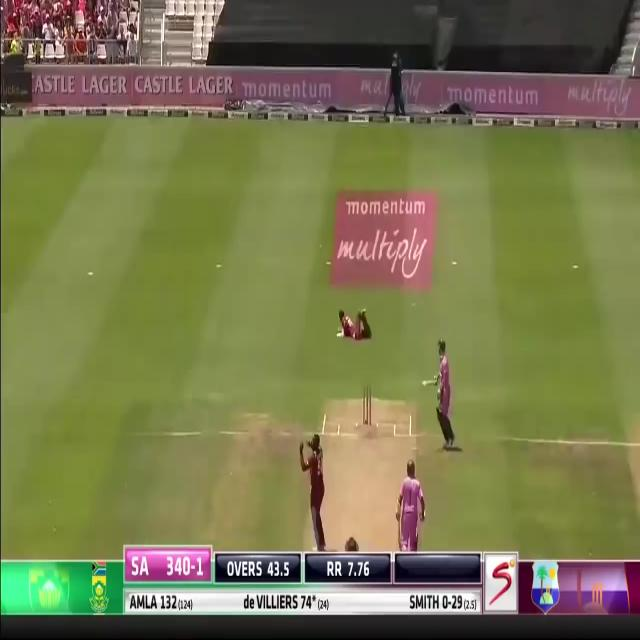Ball: (396, 459, 426, 553), (434, 339, 454, 452)
Fielder: (302, 438, 325, 547), (330, 299, 374, 345)
